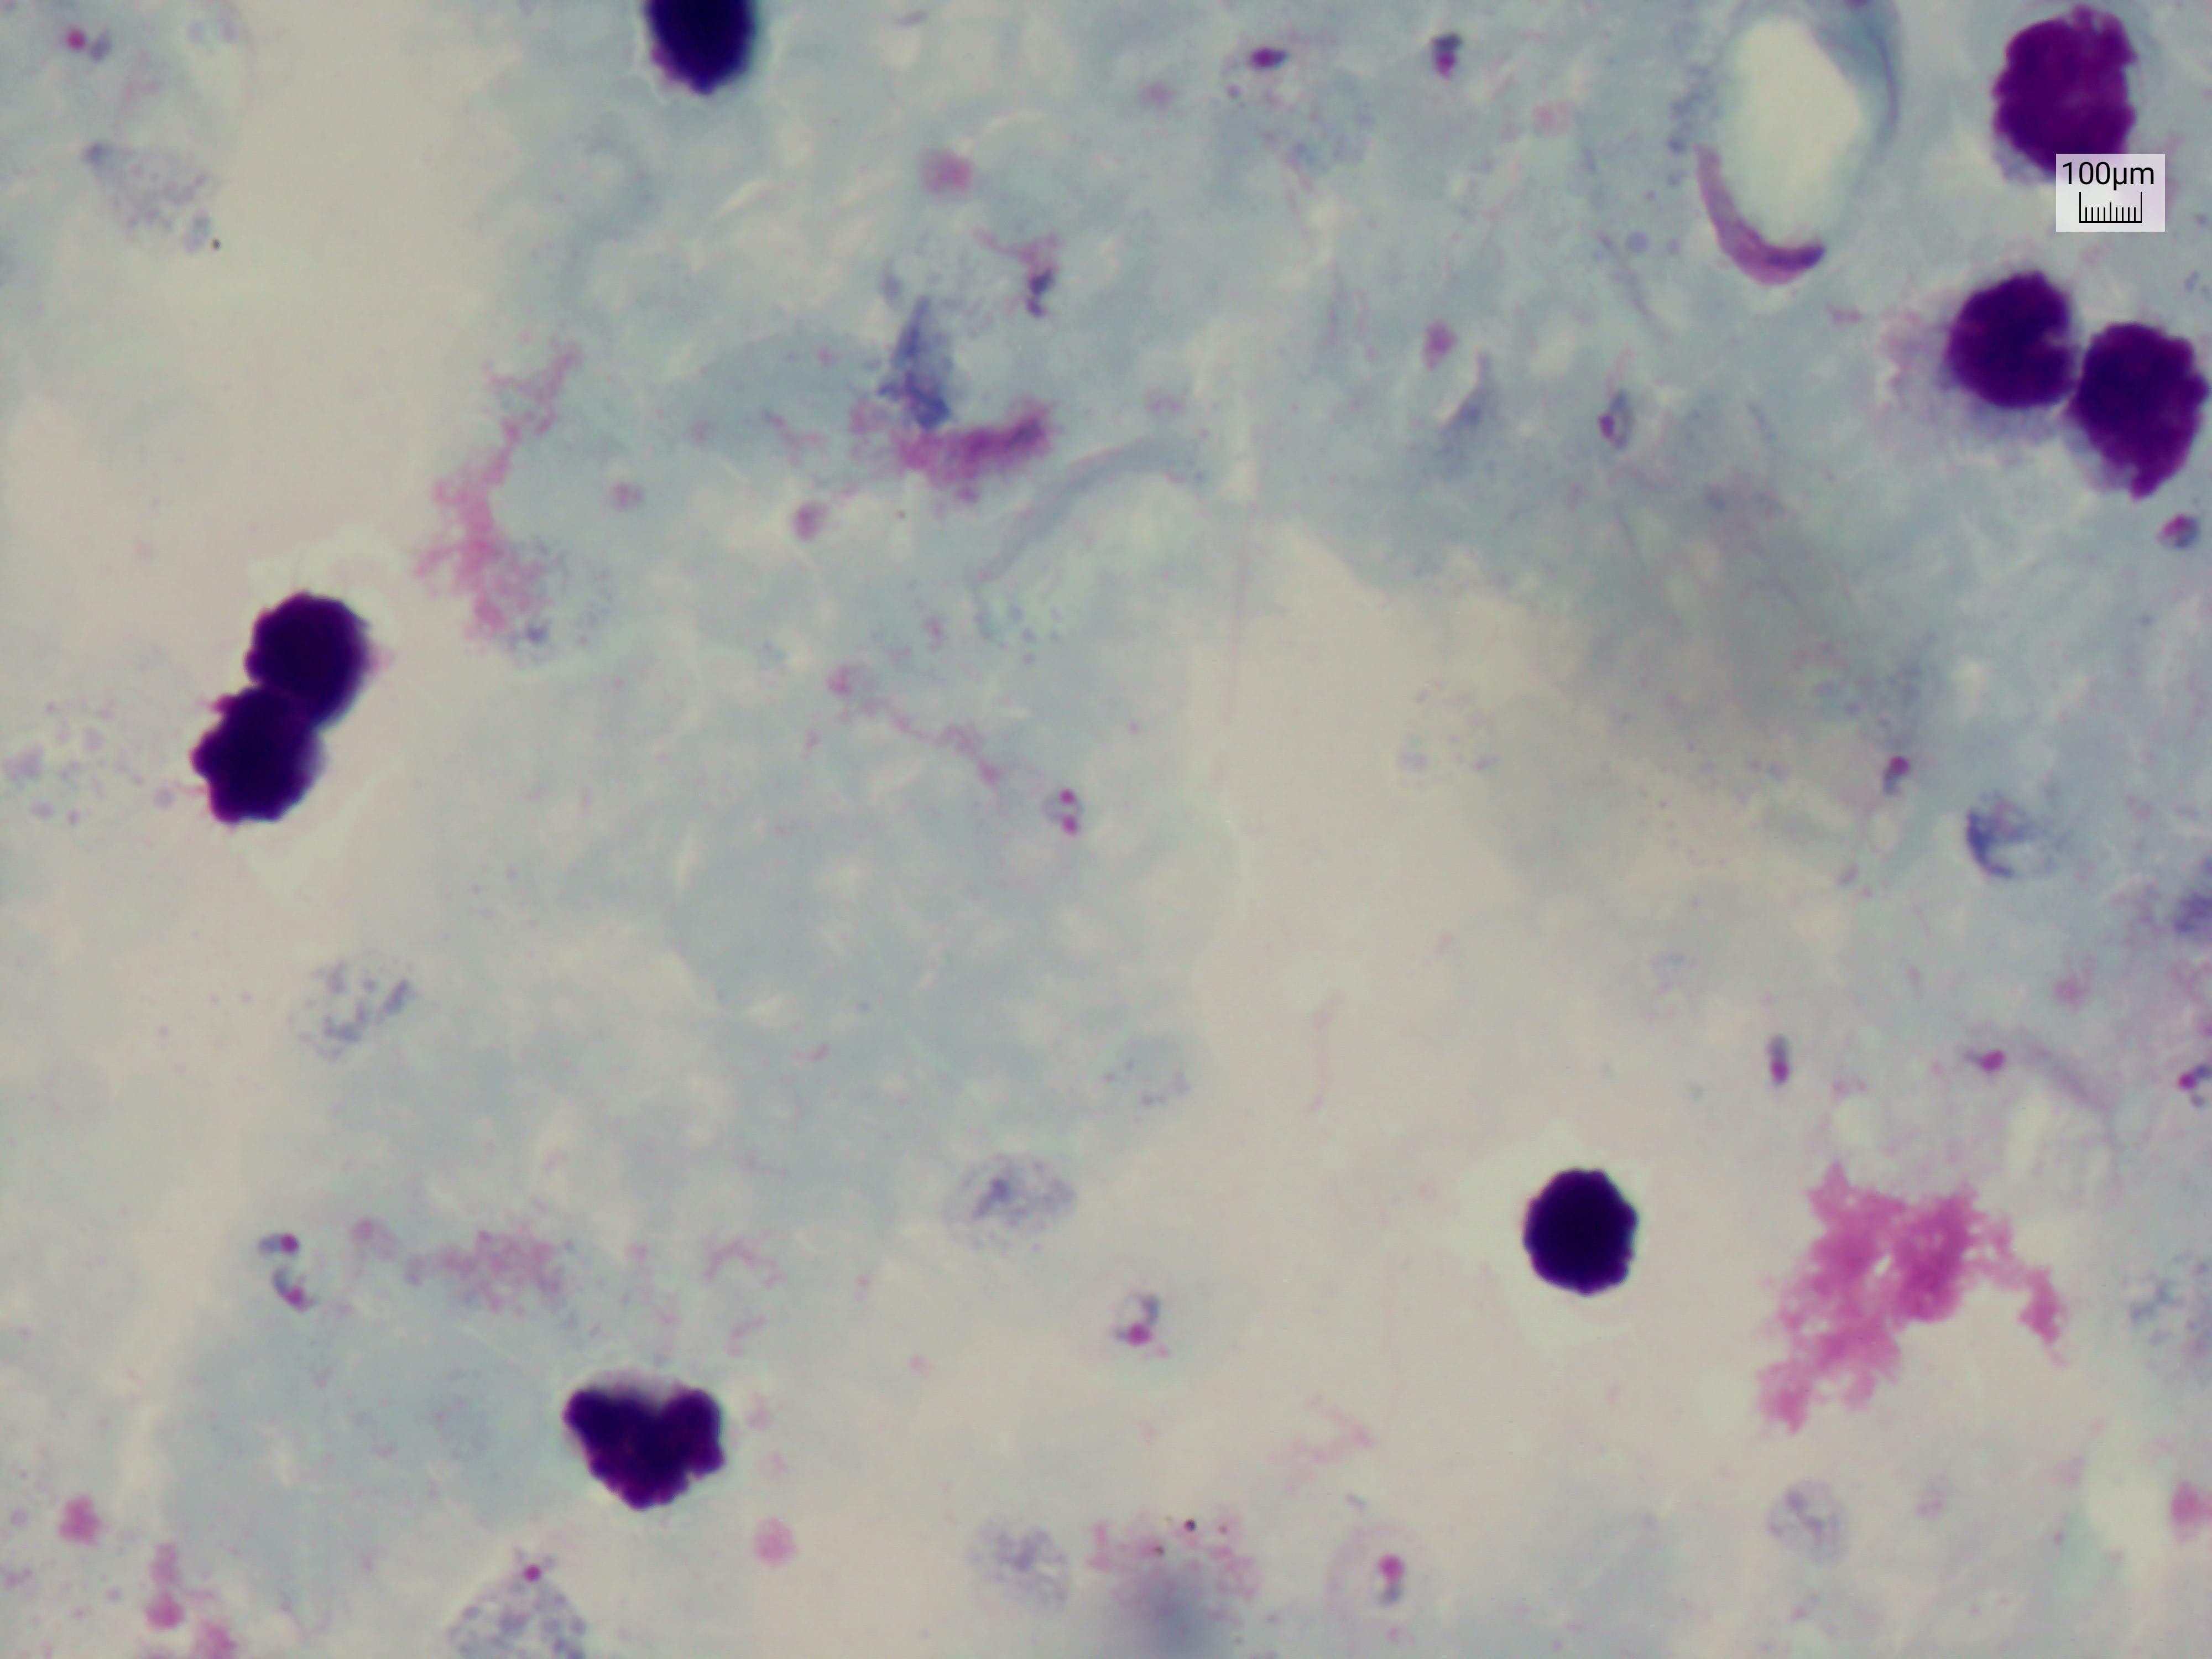p.falciparum: (1345, 1527, 1439, 1645), (251, 1215, 326, 1331), (1106, 1277, 1183, 1378), (1858, 739, 1923, 830), (1036, 763, 1089, 861), (1958, 1026, 2033, 1093), (1592, 382, 1646, 464), (52, 17, 117, 64)
